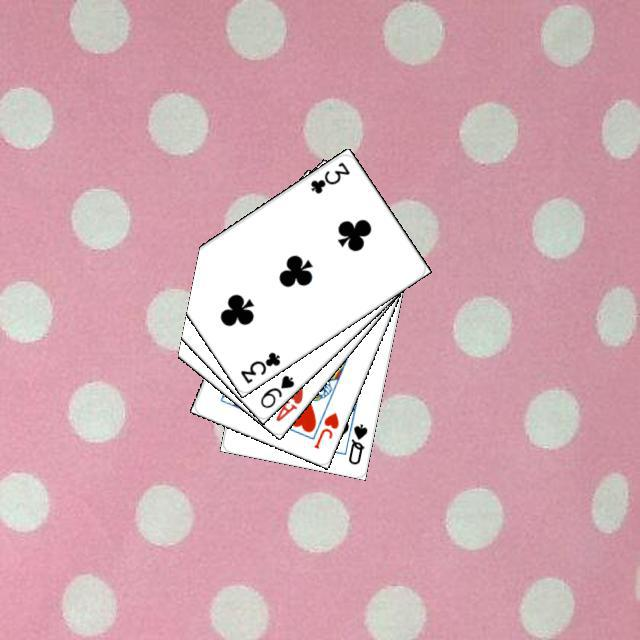3c: (305, 157, 352, 196), (235, 347, 282, 385)
9s: (255, 370, 296, 410)
Ah: (271, 383, 305, 423)
Jh: (309, 407, 341, 450)
Qs: (343, 419, 369, 466)
